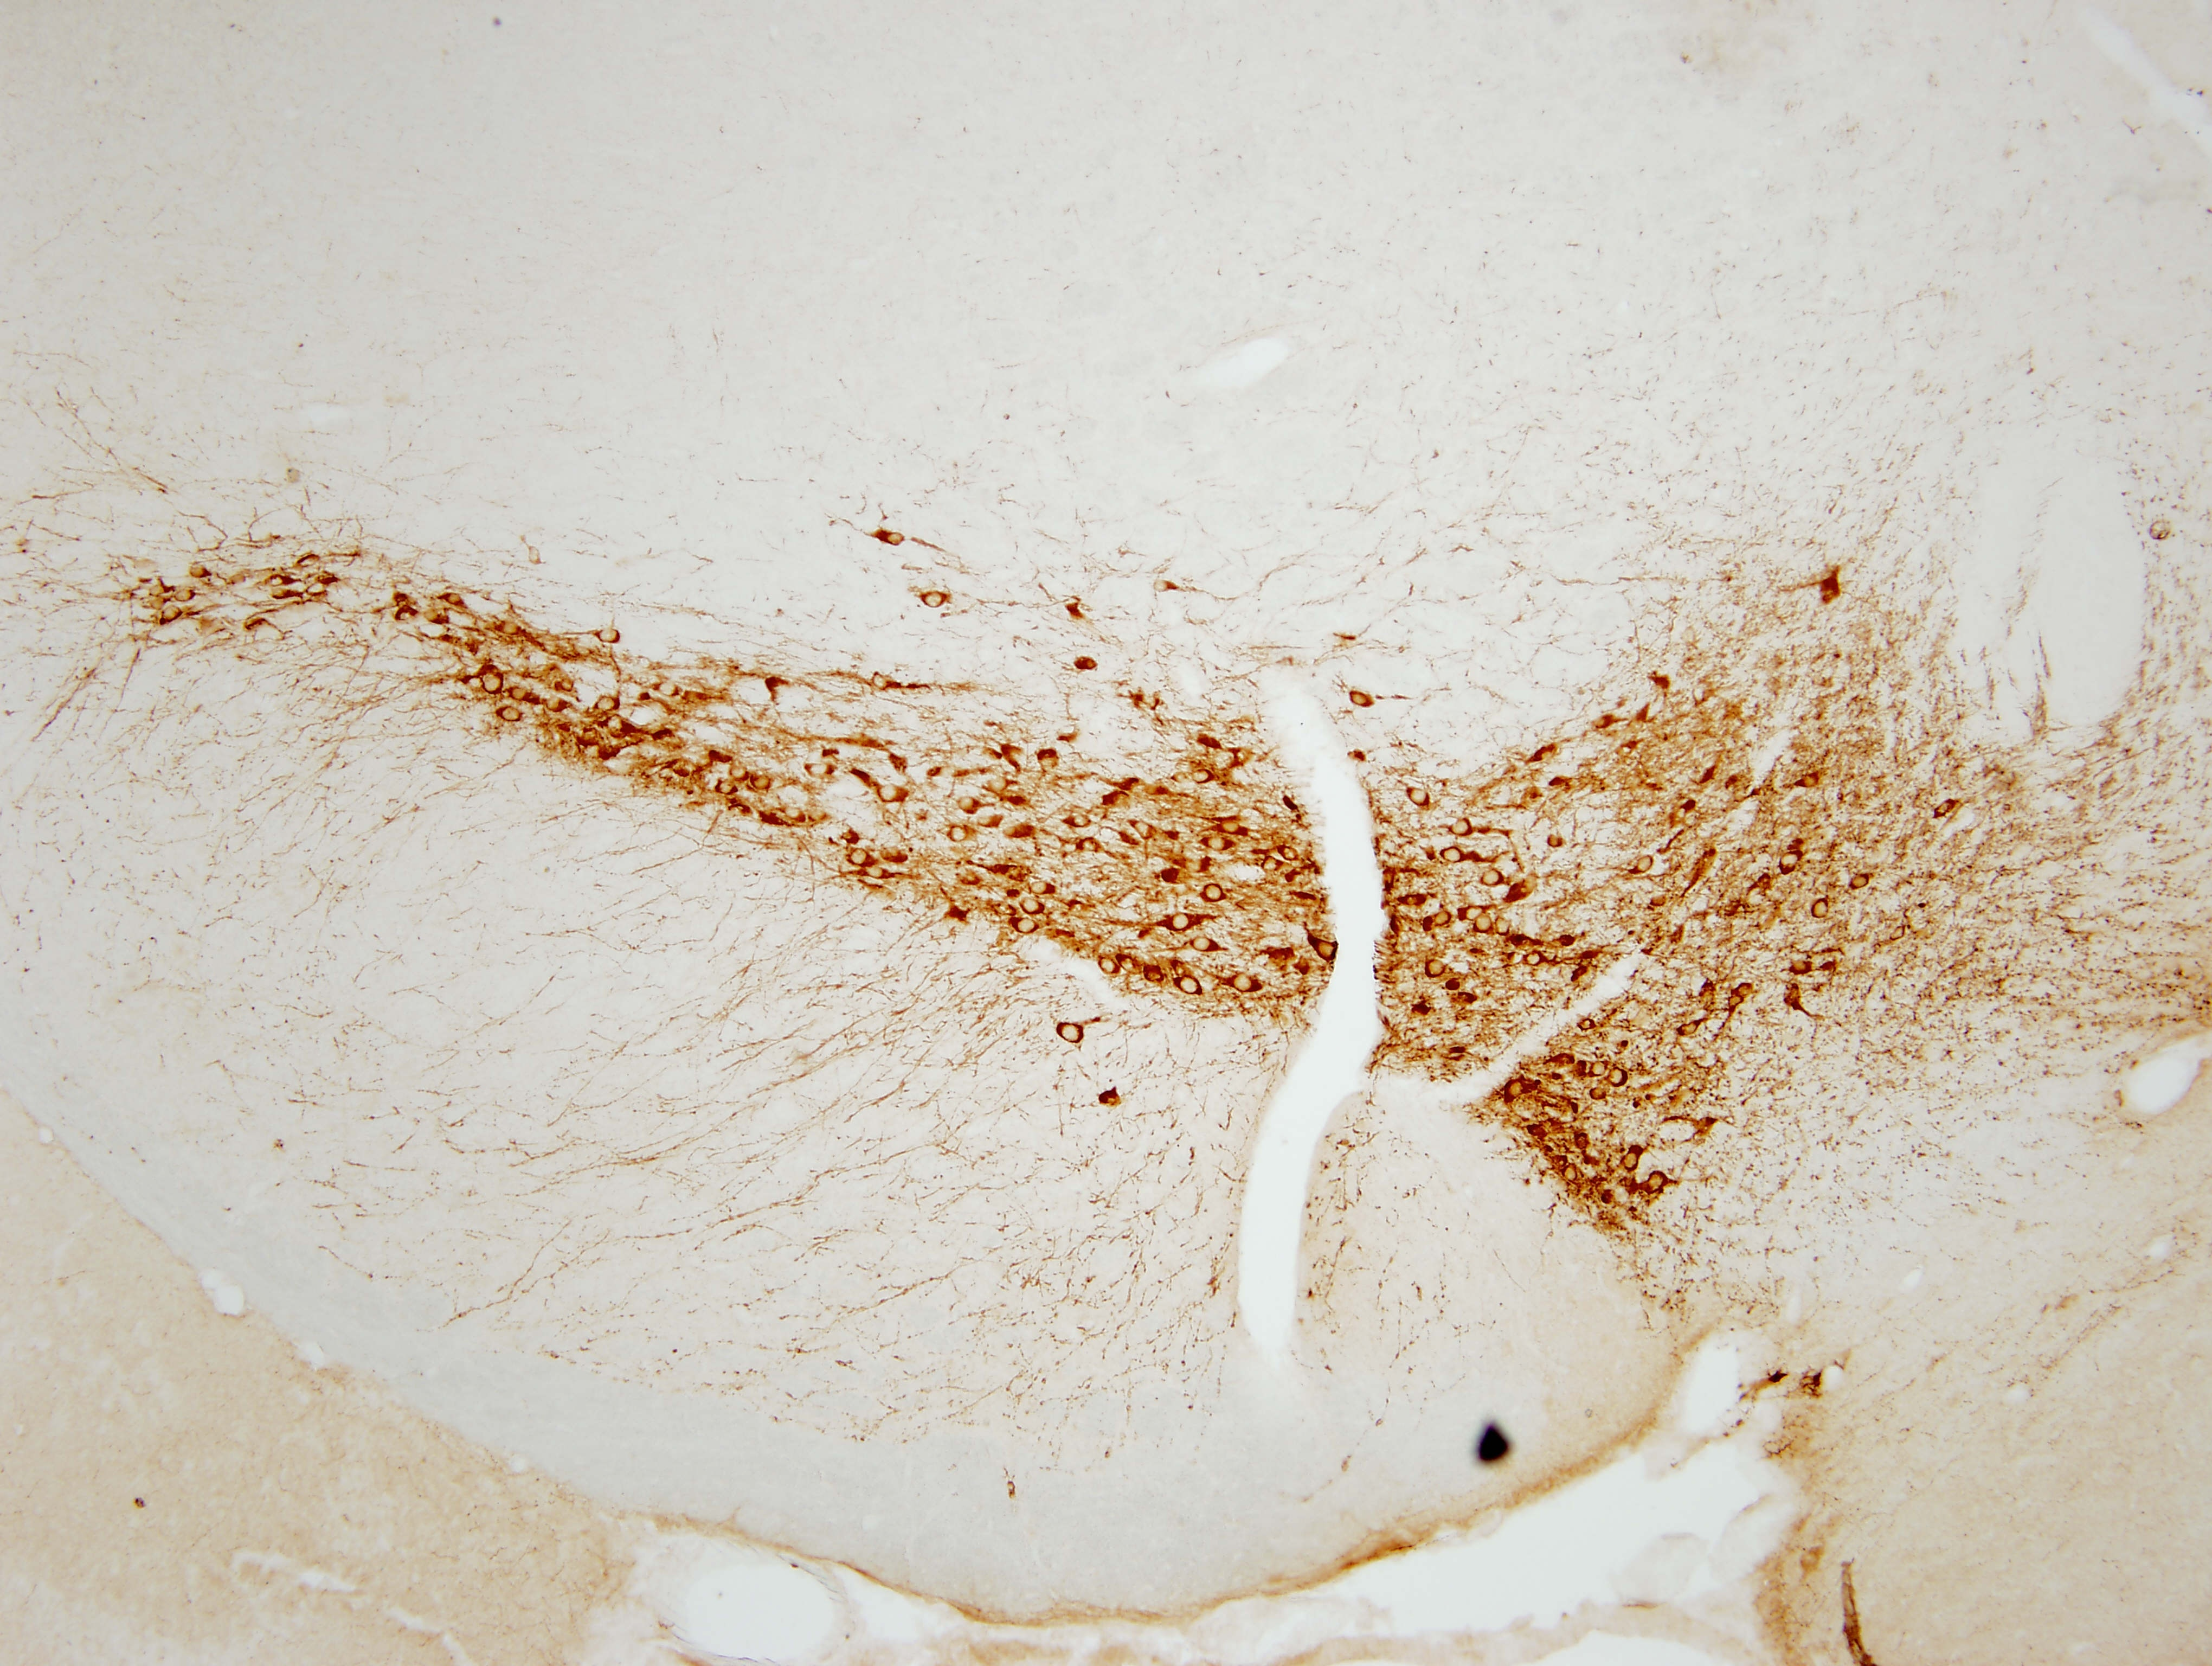neuron: (1056, 1017, 1089, 1050), (595, 691, 621, 718), (596, 623, 623, 649), (656, 676, 682, 702), (806, 756, 832, 782), (848, 843, 874, 870), (880, 781, 906, 807), (922, 586, 948, 613), (946, 821, 972, 847), (955, 793, 981, 819), (1096, 954, 1123, 980), (1130, 816, 1156, 842), (1170, 910, 1196, 936), (1177, 973, 1203, 999), (1191, 929, 1217, 956), (1201, 880, 1228, 906), (1207, 831, 1233, 858), (1221, 814, 1247, 840), (1231, 971, 1257, 998), (1257, 852, 1283, 878), (1280, 840, 1306, 866), (1346, 684, 1373, 711), (1423, 957, 1450, 984), (1430, 906, 1457, 933), (1450, 816, 1476, 842), (1472, 914, 1499, 940), (1483, 866, 1509, 893), (1506, 1078, 1532, 1104), (159, 600, 185, 626), (1621, 1146, 1647, 1172), (1645, 1171, 1672, 1197), (1778, 849, 1805, 875), (1810, 896, 1836, 922), (1848, 868, 1875, 894), (479, 670, 505, 696), (500, 702, 526, 728), (1014, 914, 1040, 938), (1021, 894, 1046, 921), (1032, 875, 1058, 900), (1315, 938, 1341, 963), (1408, 786, 1432, 812), (1439, 845, 1465, 870), (1609, 1064, 1633, 1090), (1633, 852, 1658, 878), (1934, 796, 1960, 821), (556, 677, 577, 698), (866, 863, 887, 884), (1152, 576, 1173, 597), (607, 716, 626, 737), (719, 777, 738, 798), (1563, 1164, 1582, 1185), (1591, 1083, 1610, 1104), (1726, 991, 1745, 1011), (177, 585, 196, 606), (269, 569, 289, 590), (502, 620, 523, 639), (546, 695, 565, 714), (731, 763, 750, 782), (754, 773, 773, 793), (785, 803, 804, 823), (873, 672, 892, 691), (887, 529, 906, 548), (977, 814, 997, 833), (990, 775, 1009, 795), (1072, 812, 1091, 831), (1081, 836, 1100, 856), (1194, 766, 1214, 786), (1465, 905, 1485, 924), (1525, 950, 1544, 970), (1546, 833, 1565, 852), (1579, 1013, 1598, 1032), (1591, 1059, 1610, 1078), (1617, 740, 1637, 760), (1672, 807, 1691, 826), (1736, 982, 1756, 1001), (1792, 957, 1812, 976), (1801, 772, 1820, 791), (1890, 926, 1909, 945), (191, 562, 210, 581), (301, 551, 320, 571), (308, 581, 327, 600), (397, 606, 416, 625), (423, 607, 442, 626), (446, 588, 465, 607), (512, 684, 532, 703)
